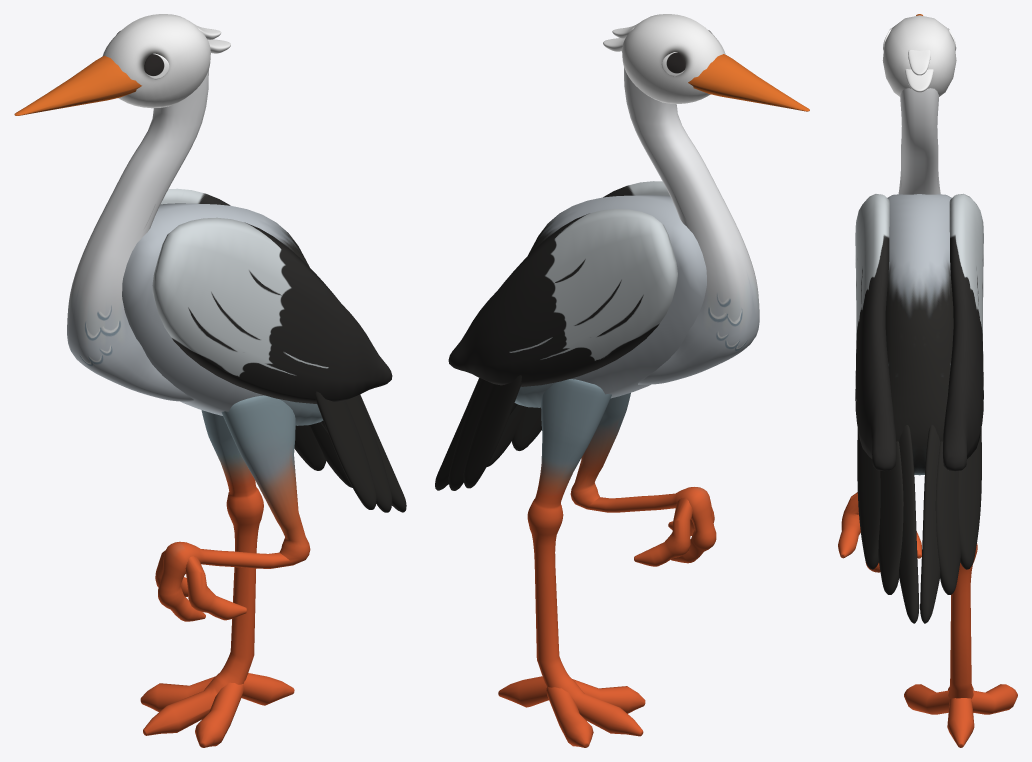
File: Laylak.fbx
3 views of the same model, side by side, from view 1: azimuth 30°, elevation 25°; view 2: azimuth 150°, elevation 25°; view 3: azimuth 270°, elevation 25° (orthographic). The views are drawn at different scales.
Parts seen in each view (by area): view 1: Plane.006, Plane.004, Plane.007, Plane, Plane.010, Plane.014, Plane.002, Plane.011, Plane.005, Plane.008; view 2: Plane.006, Plane.004, Plane.010, Plane, Plane.014, Plane.002, Plane.007, Plane.011, Plane.005, Plane.008; view 3: Plane.006, Plane.014, Plane, Plane.004, Plane.002, Plane.011, Plane.010, Plane.008, Plane.013, Plane.012.
Part boxes in pixels (bbox=[...]): Plane.006: bbox=[152, 188, 392, 403]; Plane.004: bbox=[67, 70, 208, 401]; Plane.007: bbox=[158, 395, 310, 621]; Plane: bbox=[122, 203, 323, 425]; Plane.010: bbox=[143, 410, 263, 735]; Plane.014: bbox=[294, 391, 406, 512]; Plane.002: bbox=[102, 14, 210, 108]; Plane.011: bbox=[140, 673, 294, 747]; Plane.005: bbox=[14, 56, 141, 115]; Plane.008: bbox=[155, 550, 246, 620]; Plane.006: bbox=[448, 181, 677, 386]; Plane.004: bbox=[624, 67, 759, 384]; Plane.010: bbox=[527, 379, 643, 736]; Plane: bbox=[514, 195, 706, 407]; Plane.014: bbox=[435, 375, 541, 490]; Plane.002: bbox=[622, 14, 725, 103]; Plane.007: bbox=[570, 393, 716, 563]; Plane.011: bbox=[498, 676, 645, 747]; Plane.005: bbox=[688, 54, 809, 111]; Plane.008: bbox=[634, 497, 714, 566]; Plane.006: bbox=[855, 193, 983, 471]; Plane.014: bbox=[857, 425, 981, 623]; Plane: bbox=[885, 194, 953, 475]; Plane.004: bbox=[898, 88, 940, 194]; Plane.002: bbox=[882, 15, 956, 96]; Plane.011: bbox=[904, 684, 1017, 747]; Plane.010: bbox=[948, 543, 977, 698]; Plane.008: bbox=[838, 492, 921, 558]; Plane.013: bbox=[908, 50, 930, 75]; Plane.012: bbox=[905, 69, 933, 92].
Bounding box in the file's own units: 0.1802 × 0.3282 × 0.0804.
13 materials, 13 textured.
